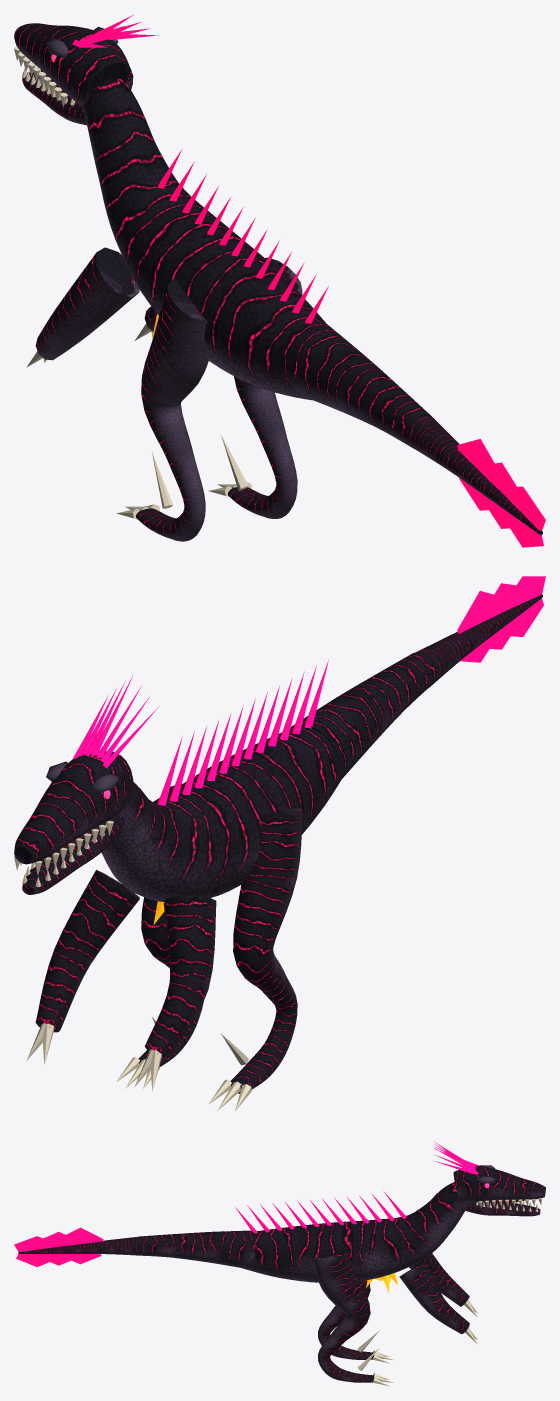
Rendered from shadow_raptor.glb.
3 views of the same model, one above another, from view 1: azimuth 30°, elevation 25°; view 2: azimuth 150°, elevation 25°; view 3: azimuth 270°, elevation 25° (orthographic). The views are drawn at different scales.
Parts seen in each view (by area): view 1: Body, Leg_L_Tendon, Tail_Upper, Head_Armor, Tail_Tip, Leg_R_Tendon, Back_Plates; view 2: Body, Head_Armor, Leg_L_Tendon, Tail_Upper, Tail_Tip, Back_Plates, Leg_R_Tendon; view 3: Body, Leg_R_Tendon, Head_Armor, Tail_Upper, Tail_Tip, Back_Plates, Leg_L_Tendon.
Part boxes in pixels (bbox=[...]): Body: bbox=[26, 78, 325, 400]; Leg_L_Tendon: bbox=[116, 279, 208, 541]; Tail_Upper: bbox=[278, 320, 433, 447]; Head_Armor: bbox=[14, 15, 158, 125]; Tail_Tip: bbox=[400, 410, 545, 547]; Leg_R_Tendon: bbox=[208, 257, 302, 518]; Back_Plates: bbox=[157, 149, 328, 323]; Body: bbox=[26, 726, 342, 1090]; Head_Armor: bbox=[14, 674, 159, 894]; Leg_L_Tendon: bbox=[208, 807, 302, 1111]; Tail_Upper: bbox=[290, 651, 437, 778]; Tail_Tip: bbox=[409, 576, 545, 688]; Back_Plates: bbox=[157, 659, 328, 805]; Leg_R_Tendon: bbox=[116, 785, 203, 1088]; Body: bbox=[239, 1182, 477, 1344]; Leg_R_Tendon: bbox=[313, 1249, 393, 1386]; Head_Armor: bbox=[434, 1142, 545, 1216]; Tail_Upper: bbox=[139, 1230, 255, 1267]; Tail_Tip: bbox=[14, 1227, 145, 1266]; Back_Plates: bbox=[235, 1192, 406, 1233]; Leg_L_Tendon: bbox=[318, 1280, 394, 1363].
Bounding box in the file's own units: 5.65 × 16.46 × 34.3.
Materials: 6 (1 with a texture image).
